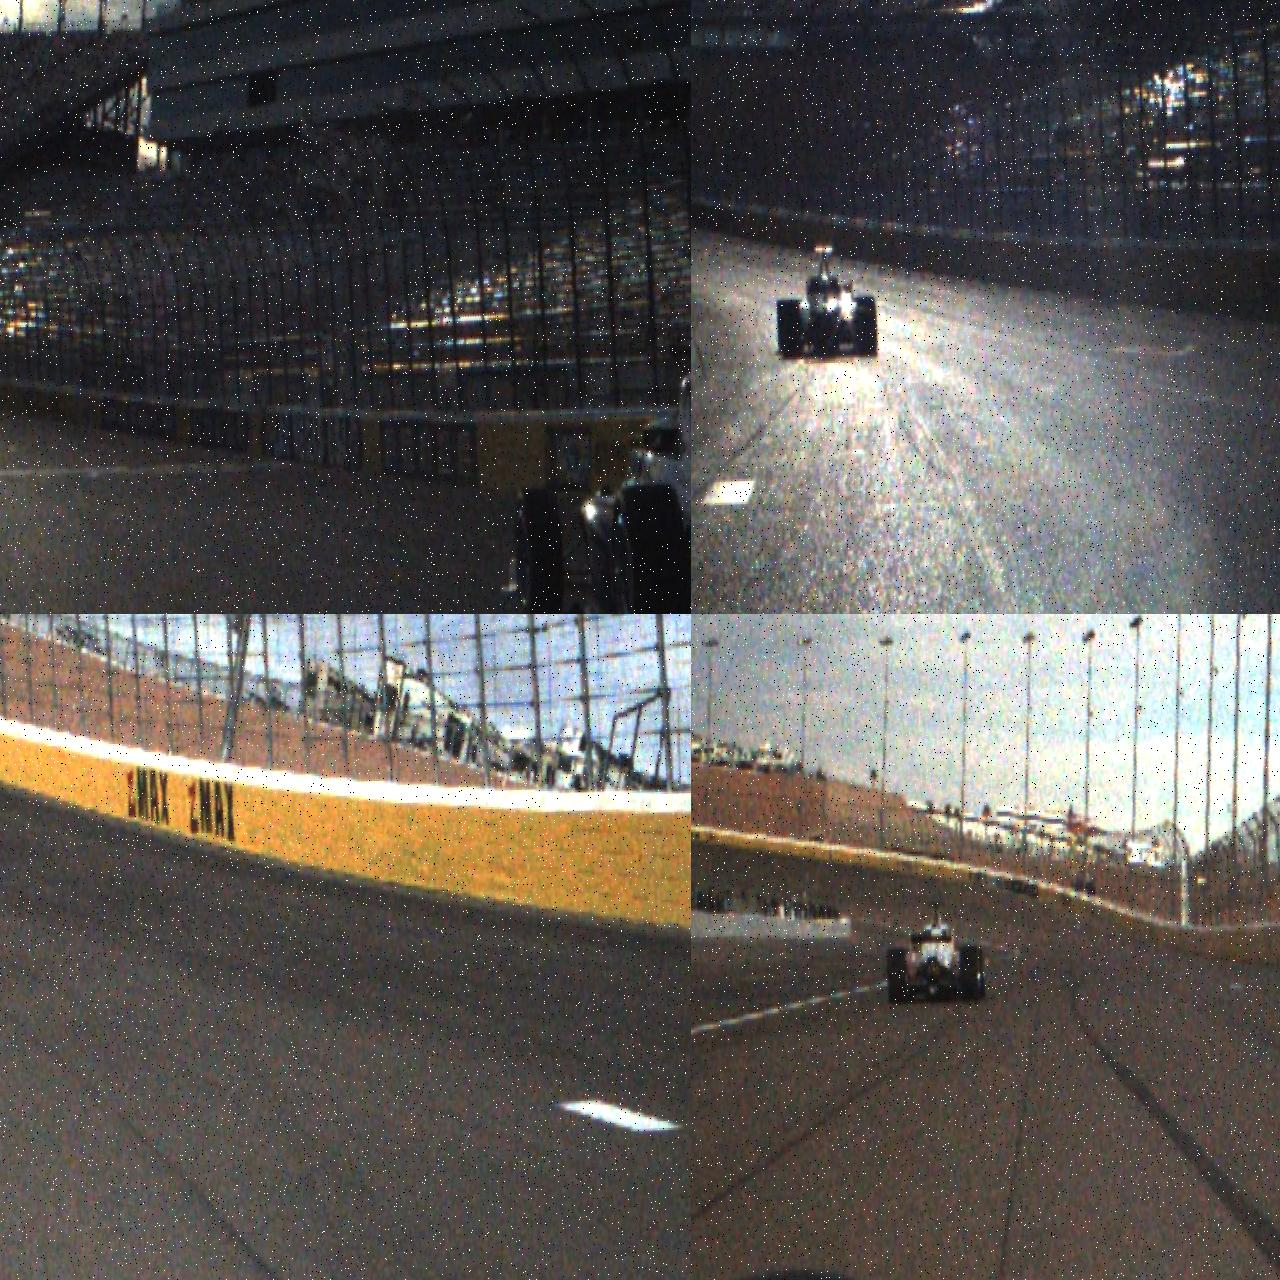AV: (489, 332, 691, 614), (774, 243, 878, 360), (884, 897, 986, 1005)
Wheel: (607, 482, 690, 614), (511, 484, 566, 614), (776, 298, 802, 359), (854, 294, 877, 356), (886, 948, 908, 1004), (960, 944, 980, 1002), (972, 948, 986, 996)
